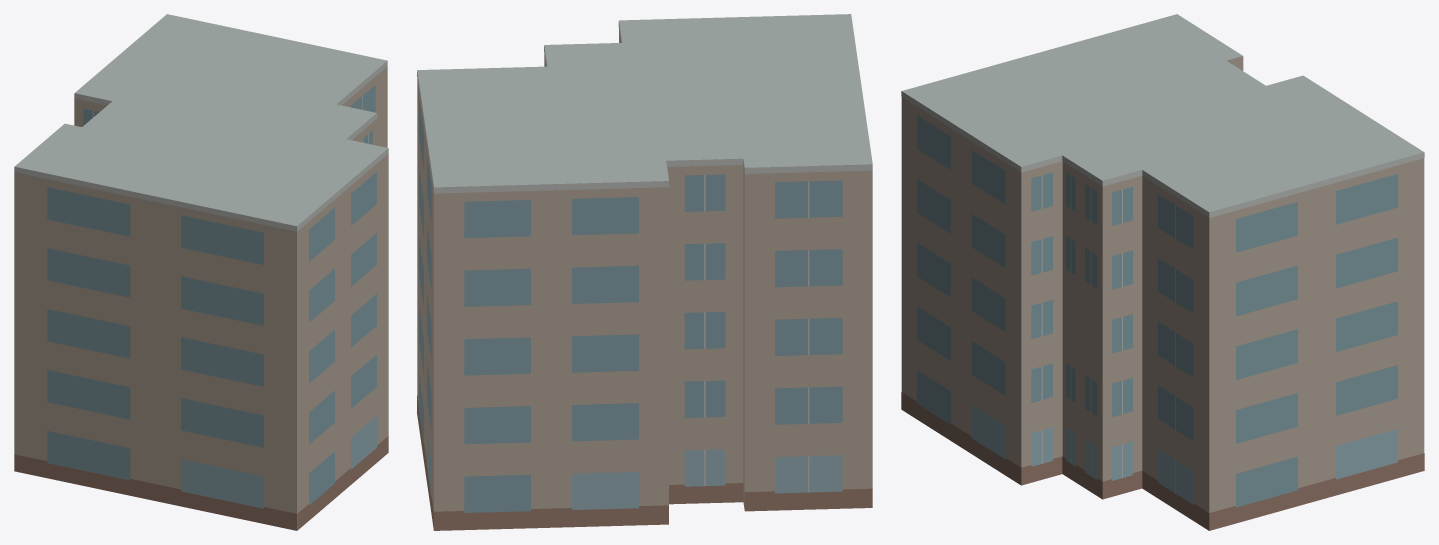
File: survey-upis-32758737.glb
3 views of the same model, side by side, from view 1: azimuth 30°, elevation 25°; view 2: azimuth 150°, elevation 25°; view 3: azimuth 270°, elevation 25° (orthographic). The views are drawn at different scales.
Visible parts, largest first — view 1: survey-upis-32758737.tmp; view 2: survey-upis-32758737.tmp; view 3: survey-upis-32758737.tmp.
Boxes of the visible parts, bbox=[...] form: survey-upis-32758737.tmp: bbox=[14, 14, 388, 530]; survey-upis-32758737.tmp: bbox=[417, 14, 872, 530]; survey-upis-32758737.tmp: bbox=[901, 14, 1424, 530].
Size of the model in its own units: 18.04 by 13.5 by 20.09.
